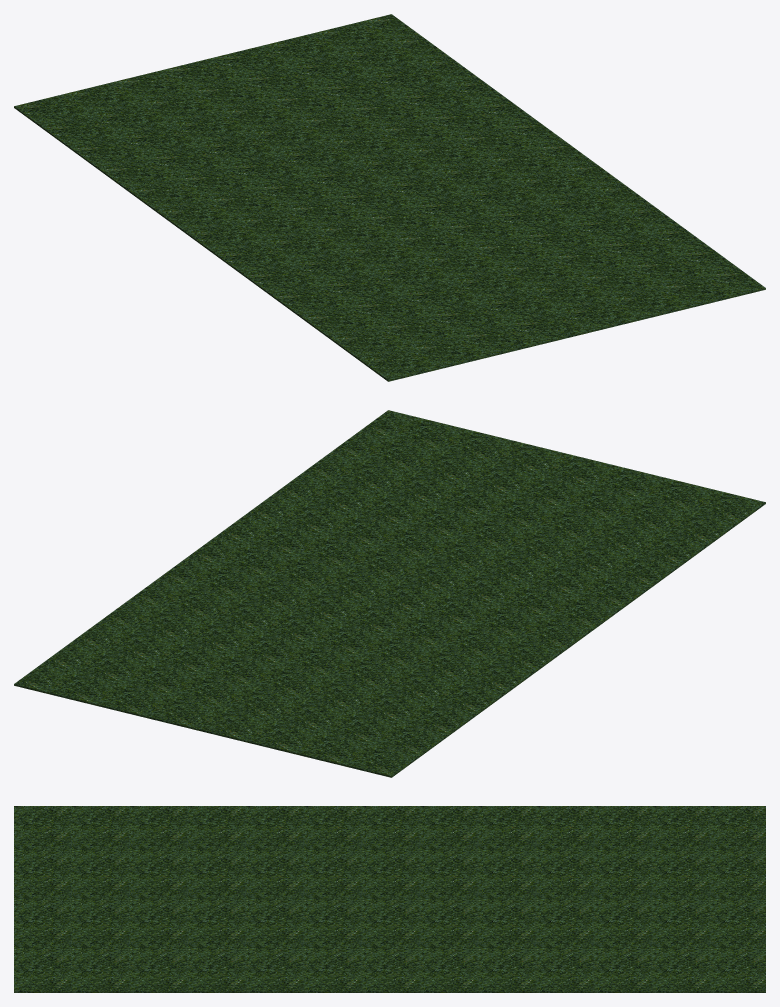
The model's file is ZigLev1.glb.
3 views of the same model, one above another, from view 1: azimuth 30°, elevation 25°; view 2: azimuth 150°, elevation 25°; view 3: azimuth 270°, elevation 25° (orthographic).
Visible parts, largest first — view 1: ZigLev1; view 2: ZigLev1; view 3: ZigLev1.
Boxes of the visible parts, bbox=[...] form: ZigLev1: bbox=[14, 14, 765, 381]; ZigLev1: bbox=[14, 410, 765, 777]; ZigLev1: bbox=[14, 806, 765, 992].
Bounding box in the file's own units: 966 × 4 × 1658.
1 material, 1 textured.
